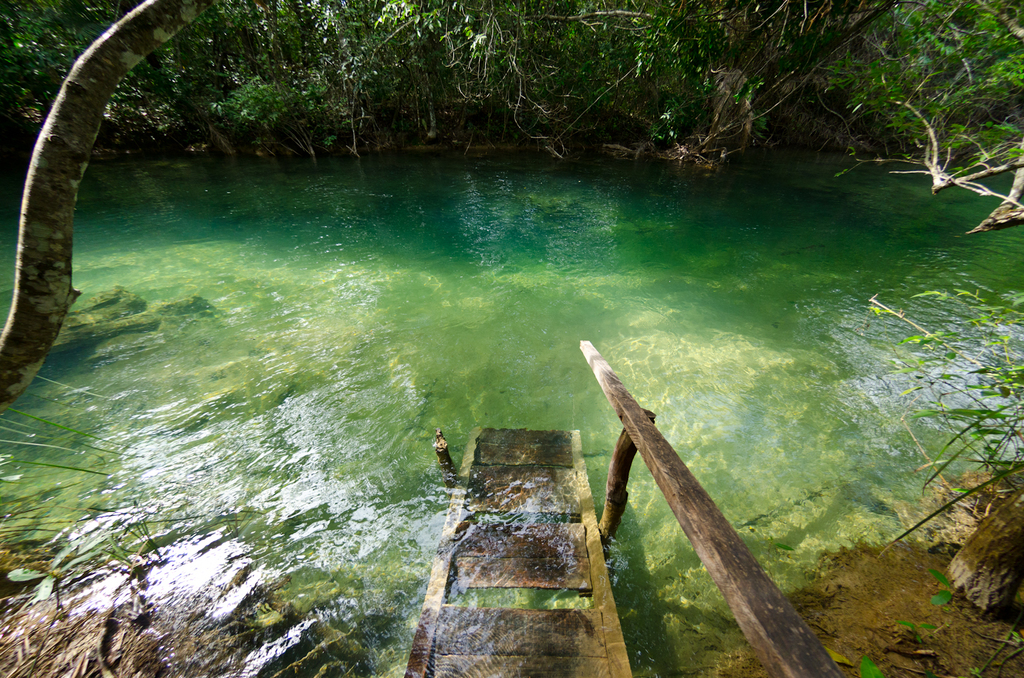Tree: (0, 0, 1023, 186)
